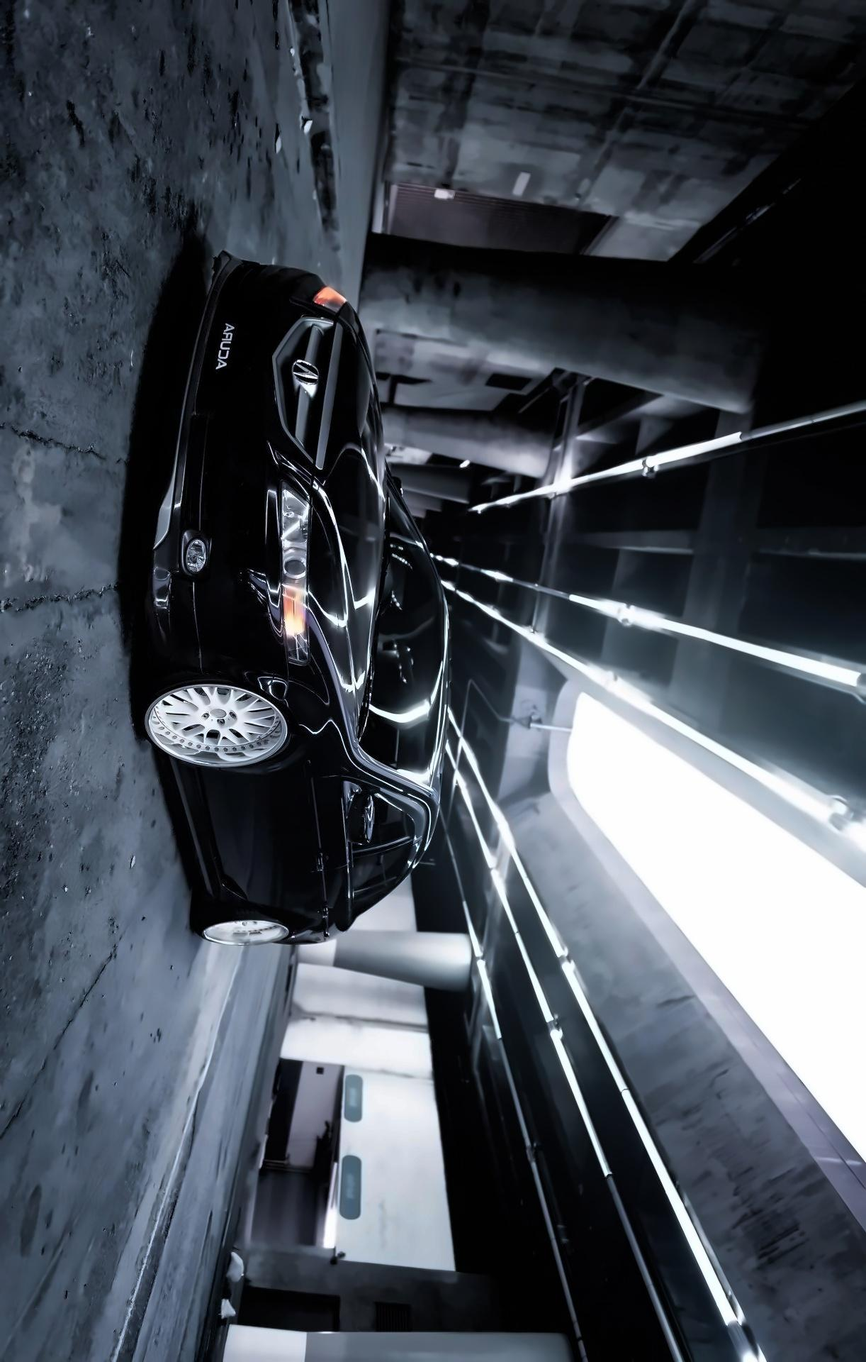Car hood: (300, 290, 388, 740)
Fender - -F-L-: (149, 661, 385, 791)
Front bumper: (134, 251, 287, 692)
Headlight - -L-: (265, 488, 318, 671)
Headlight - -R-: (309, 278, 348, 319)
Passenger-s door - -F-L-: (150, 763, 455, 862)
Passenger-s door - -R-L-: (178, 821, 437, 922)
Side bumper - -L-: (134, 744, 237, 926)
Side mirror - -L-: (336, 772, 379, 851)
